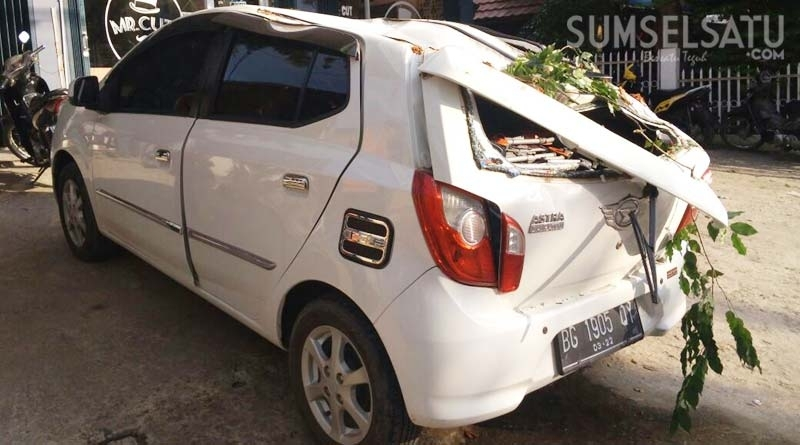plate: (558, 302, 646, 358)
